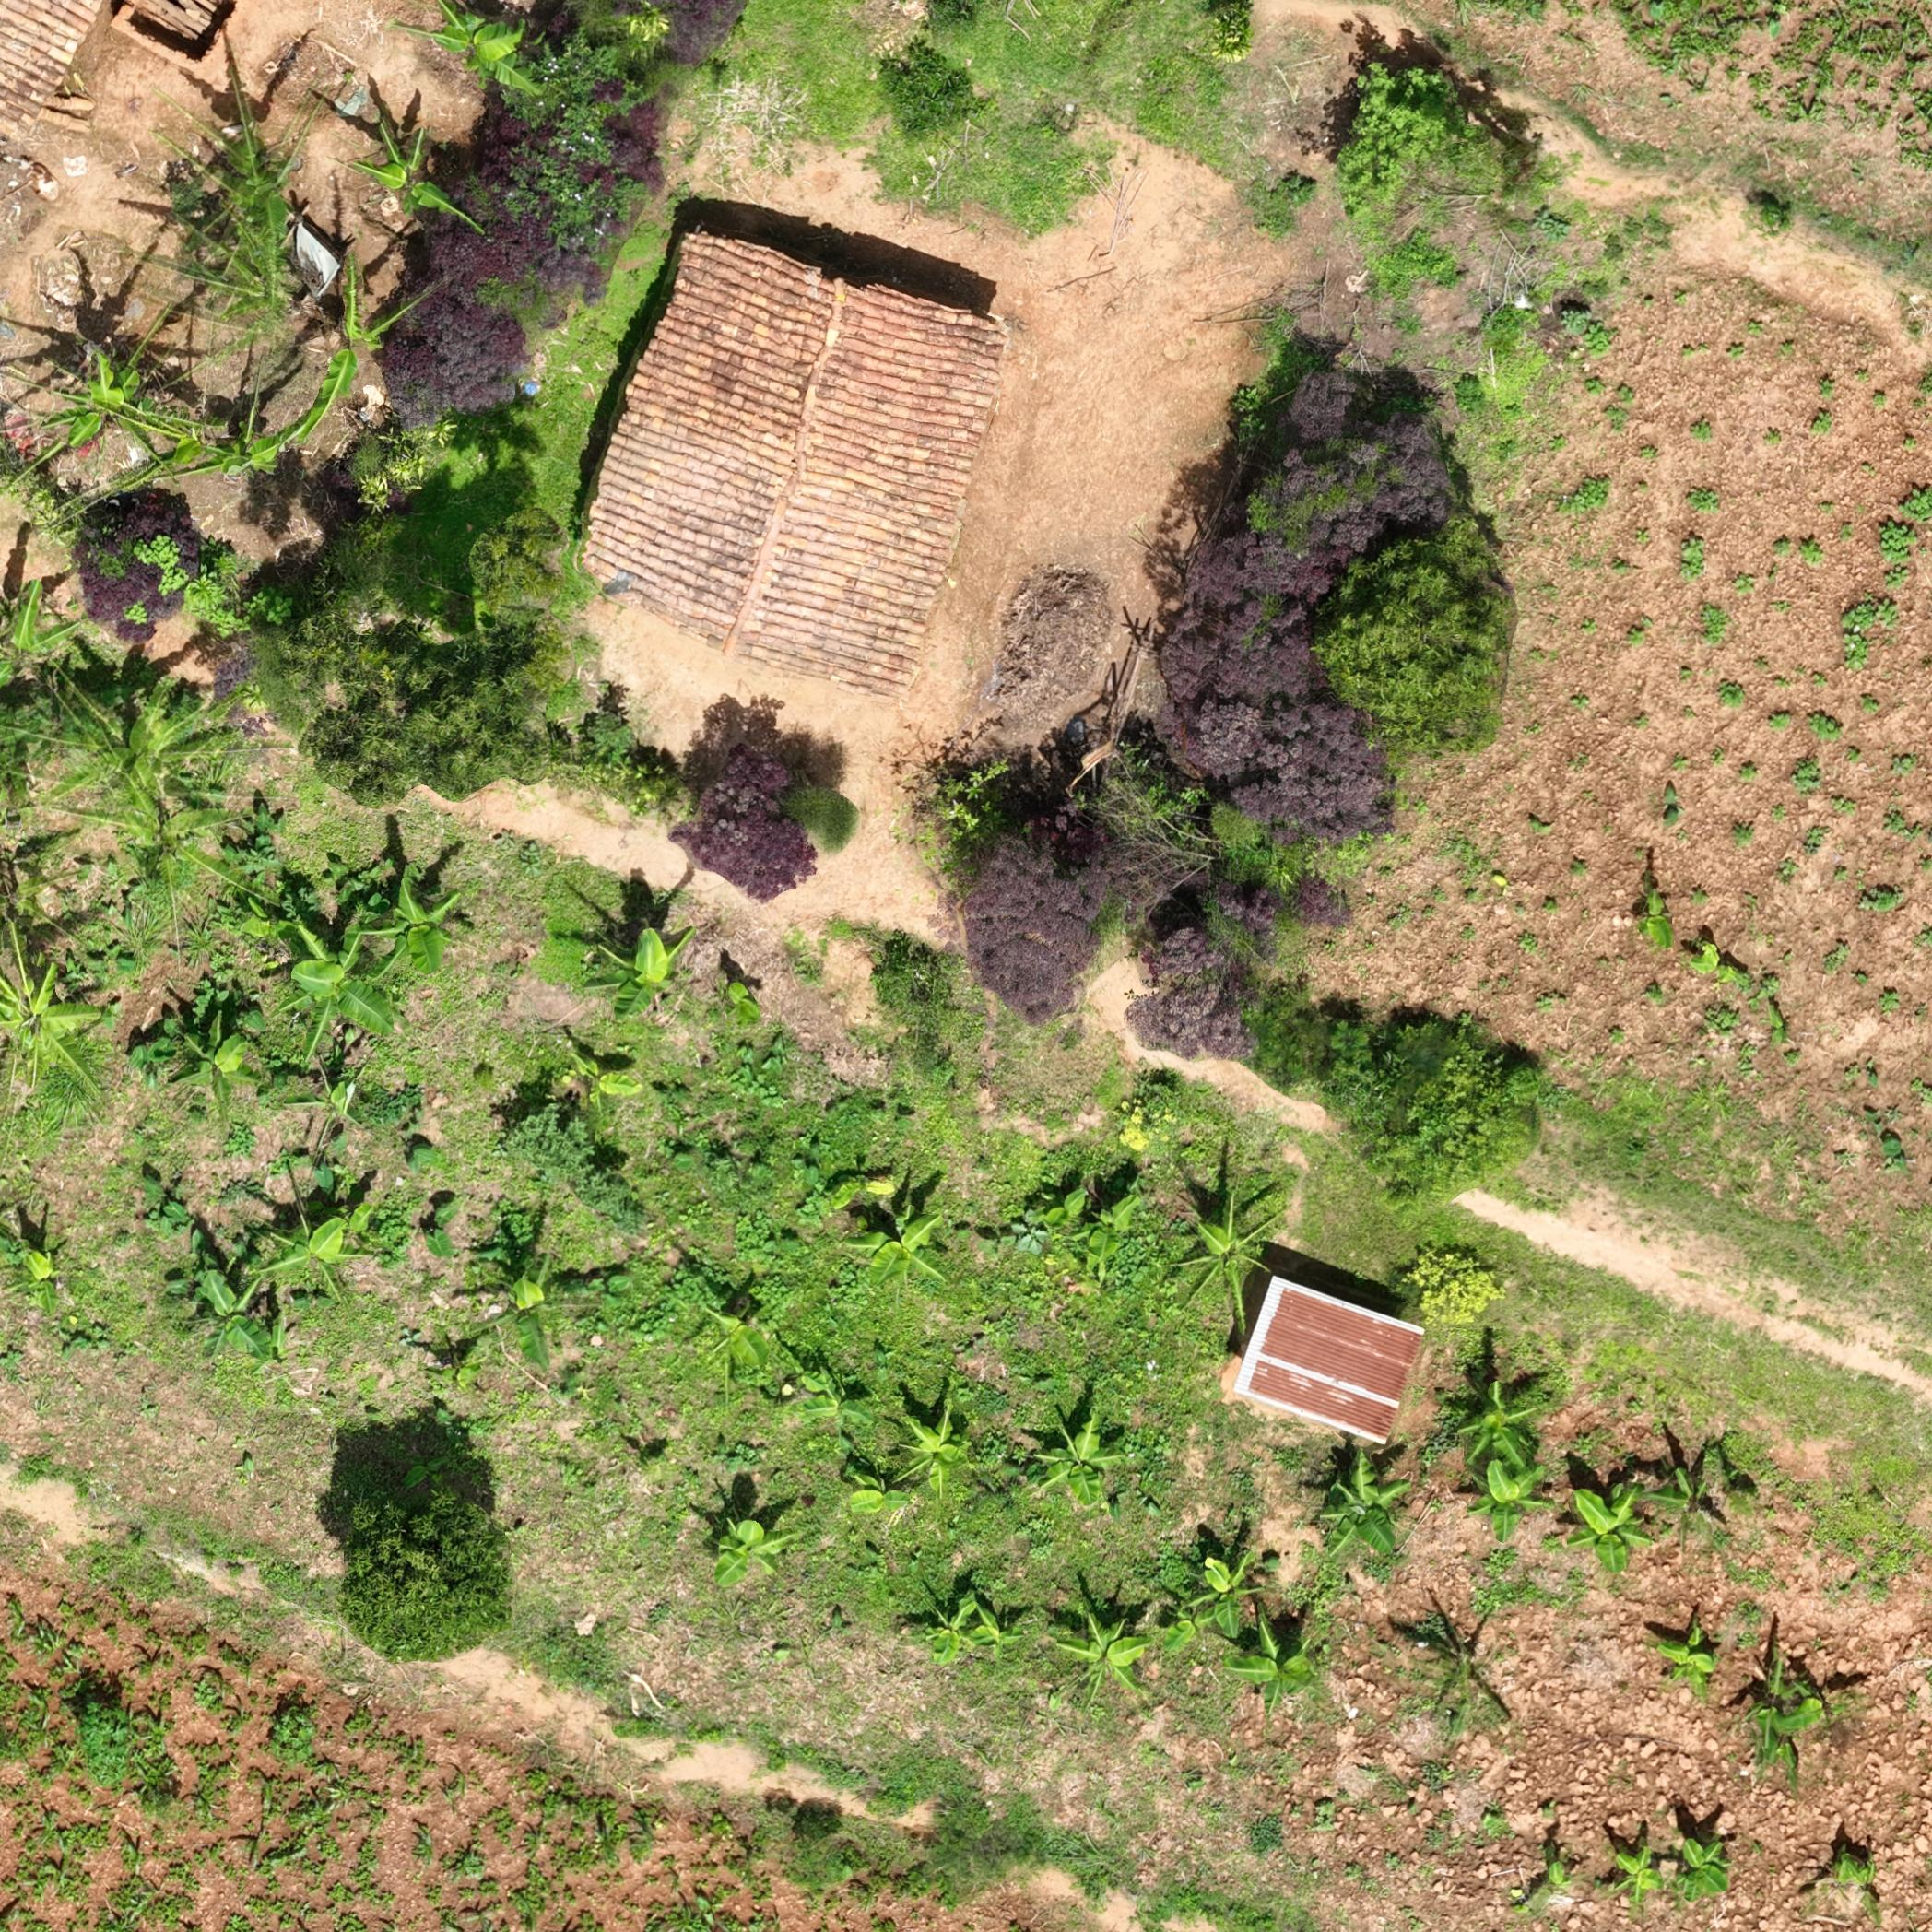Banana: (65, 690, 239, 809), (179, 159, 295, 324), (115, 801, 241, 932), (18, 971, 103, 1104), (264, 1207, 368, 1309), (373, 870, 469, 977), (1185, 1201, 1263, 1315), (299, 954, 387, 1049), (439, 5, 543, 85), (4, 563, 71, 683), (1338, 1460, 1408, 1573), (74, 359, 157, 455), (361, 131, 458, 209), (497, 1272, 577, 1362), (1562, 1481, 1629, 1580), (172, 1017, 248, 1104), (203, 1265, 271, 1362), (1060, 1405, 1116, 1520), (844, 1210, 943, 1274), (177, 421, 306, 469), (614, 943, 683, 1031), (915, 1394, 961, 1520), (1079, 1624, 1150, 1697), (1760, 1681, 1815, 1773), (722, 1516, 789, 1587), (1247, 1631, 1309, 1704), (708, 1315, 771, 1378), (938, 1612, 1010, 1667), (1203, 1553, 1247, 1638), (580, 1054, 642, 1111), (805, 1371, 862, 1431), (1486, 1453, 1529, 1532), (1608, 1836, 1656, 1907), (1661, 1635, 1718, 1684), (1076, 1217, 1129, 1256), (1686, 1852, 1732, 1897), (1486, 1387, 1516, 1449), (860, 1479, 908, 1516)
